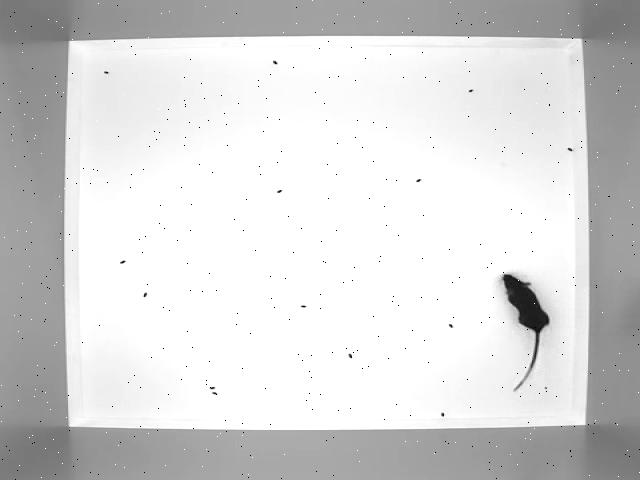Tikus: (500, 273, 552, 391)
